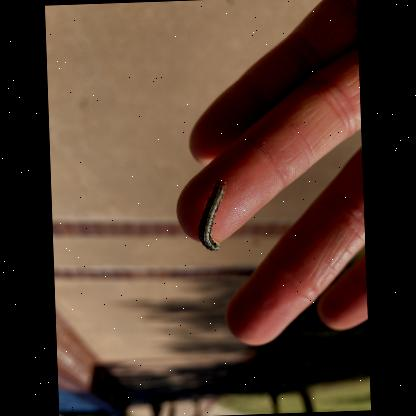Fall Armyworm Larvae: (192, 178, 231, 256)
